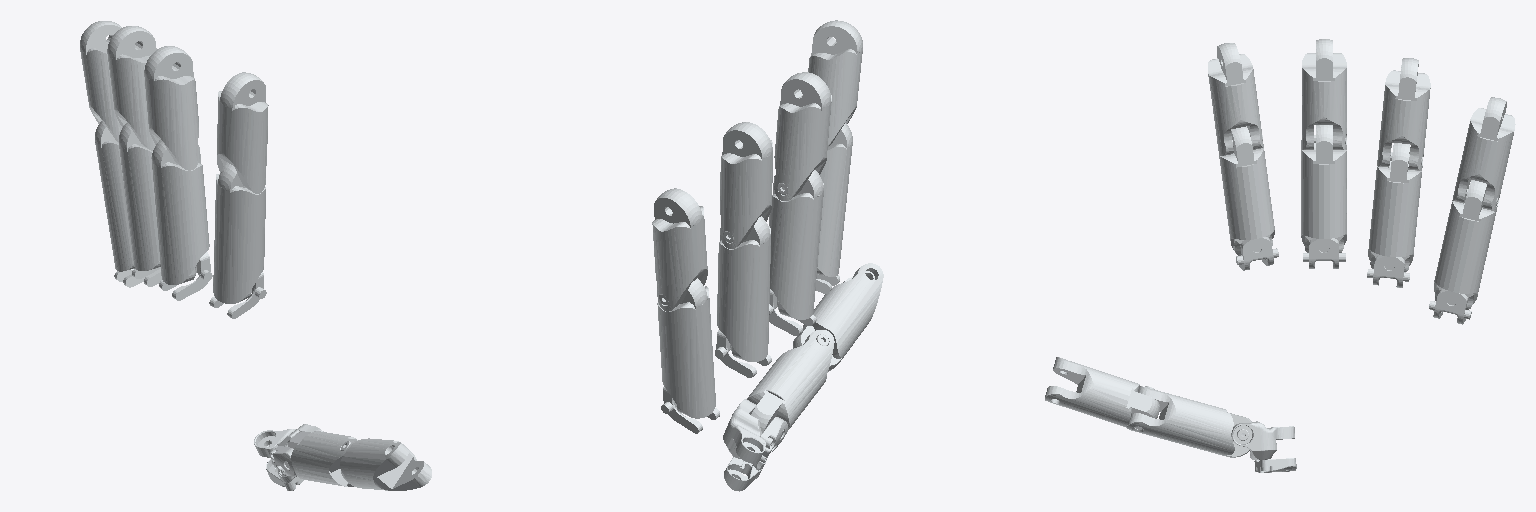
--- Render facts (derived) ---
The picture shows the robot from 3 angles, left to right: view 1: azimuth 30°, elevation 25°; view 2: azimuth 150°, elevation 25°; view 3: azimuth 270°, elevation 25°; orthographic projection.
Robot: wujihand-left-v1.0.0 — 26 links, 25 joints (20 revolute, 5 fixed); root link palm_link; default pose: all joints at 0.
Links seen in each view (by area): view 1: finger3_link2, finger2_link2, finger3_link3, finger2_link3, finger4_link3, finger4_link2, finger1_link3, finger5_link2, finger5_link3, finger1_link2, finger1_link1, finger3_link1 (+1 smaller); view 2: finger4_link2, finger3_link2, finger5_link2, finger3_link3, finger4_link3, finger5_link3, finger1_link2, finger1_link3, finger2_link3, finger2_link2, finger1_link1, finger4_link1 (+2 smaller); view 3: finger3_link2, finger4_link2, finger5_link2, finger2_link2, finger1_link2, finger1_link3, finger5_link3, finger2_link3, finger4_link3, finger3_link3, finger1_link1, finger2_link1 (+3 smaller).
Link boxes in pixels (x1=…): finger3_link2: x1=151, y1=140, x2=209, y2=284; finger2_link2: x1=213, y1=162, x2=265, y2=303; finger3_link3: x1=144, y1=46, x2=199, y2=170; finger2_link3: x1=217, y1=72, x2=268, y2=193; finger4_link3: x1=107, y1=26, x2=156, y2=150; finger4_link2: x1=119, y1=123, x2=160, y2=270; finger1_link3: x1=340, y1=438, x2=431, y2=490; finger5_link2: x1=95, y1=121, x2=134, y2=271; finger5_link3: x1=80, y1=21, x2=121, y2=142; finger1_link2: x1=285, y1=431, x2=357, y2=486; finger1_link1: x1=254, y1=424, x2=323, y2=490; finger3_link1: x1=159, y1=252, x2=212, y2=300; finger4_link2: x1=717, y1=216, x2=770, y2=361; finger3_link2: x1=769, y1=170, x2=823, y2=319; finger5_link2: x1=657, y1=278, x2=715, y2=418; finger3_link3: x1=774, y1=72, x2=831, y2=200; finger4_link3: x1=720, y1=122, x2=772, y2=248; finger5_link3: x1=652, y1=188, x2=707, y2=311; finger1_link2: x1=747, y1=330, x2=834, y2=436; finger1_link3: x1=793, y1=263, x2=883, y2=371; finger2_link3: x1=808, y1=20, x2=862, y2=146; finger2_link2: x1=817, y1=123, x2=852, y2=276; finger1_link1: x1=723, y1=399, x2=787, y2=491; finger4_link1: x1=715, y1=330, x2=771, y2=377; finger3_link2: x1=1301, y1=125, x2=1346, y2=252; finger4_link2: x1=1368, y1=143, x2=1421, y2=271; finger5_link2: x1=1434, y1=180, x2=1496, y2=309; finger2_link2: x1=1219, y1=126, x2=1274, y2=255; finger1_link2: x1=1127, y1=386, x2=1251, y2=457; finger1_link3: x1=1045, y1=357, x2=1159, y2=429; finger5_link3: x1=1452, y1=97, x2=1515, y2=211; finger2_link3: x1=1208, y1=43, x2=1263, y2=155; finger4_link3: x1=1377, y1=58, x2=1430, y2=170; finger3_link3: x1=1301, y1=39, x2=1346, y2=149; finger1_link1: x1=1231, y1=421, x2=1296, y2=472; finger2_link1: x1=1236, y1=237, x2=1278, y2=270.
Size in the robot's own frame: 0.0465 by 0.1549 by 0.1454 metres.
15 mesh visuals loaded from 26 distinct referenced files (15 binary STL); not drawn: 11 (reference not matched to a file when rendering).

URDF robot description (wujihand-left-v1.0.0):
<?xml version="1.0" encoding="utf-8"?>
<robot name="wujihand-left-v1.0.0">
  <!-- Minimal MuJoCo settings - detailed configuration will be in exported XML -->
  <mujoco>
    <compiler meshdir="../meshes/left/" balanceinertia="true"/>
  </mujoco>
  <link
    name="palm_link">
    <inertial>
      <origin
        xyz="-0.00292929095429706 -0.000424723926533241 0.0364904602759093"
        rpy="0 0 0" />
      <mass
        value="0.2179" />
      <inertia
        ixx="0.000185138805675"
        ixy="-6.95e-04"
        ixz="6.81e-03"
        iyy="0.000122854497279"
        iyz="1.27e-02"
        izz="8.31e-02" />
    </inertial>
    <visual>
      <origin
        xyz="0 0 0"
        rpy="0 0 0" />
      <geometry>
        <mesh
          filename="palm_mask.STL" />
      </geometry>
      <material
        name="">
        <color
          rgba="0.898039215686275 0.917647058823529 0.929411764705882 1" />
      </material>
      <!-- MuJoCo visual设置 - 使用组1（可见） -->
      <class>visual</class>
    </visual>
    <collision>
      <origin
        xyz="0 0 0"
        rpy="1.5708 0 0" />
      <geometry>
        <mesh
          filename="palm_link.STL" />
      </geometry>
      <!-- MuJoCo collision parameters - 增大palm的margin和gap -->
      <mu1 value="0.8"/>
      <mu2 value="0.8"/>
      <margin value="0.015"/>
      <gap value="0.012"/>
      <!-- MuJoCo碰撞设置 - 使用组3（不可见） -->
      <class>collision</class>
    </collision>
  </link>
  <link
    name="finger1_link1">
    <inertial>
      <origin
        xyz="-0.00158326296943185 0.00213593307440989 0.00777132593574714"
        rpy="0 0 0" />
      <mass
        value="0.0075" />
      <inertia
        ixx="3.31e-04"
        ixy="-4.13e-06"
        ixz="-8.89e-06"
        iyy="3.17e-04"
        iyz="-5.68e-05"
        izz="2.14e-04" />
    </inertial>
    <visual>
      <origin
        xyz="0 0 0"
        rpy="0 0 0" />
      <geometry>
        <mesh
          filename="finger1_link1.STL" />
      </geometry>
      <material
        name="">
        <color
          rgba="0.898039215686275 0.917647058823529 0.929411764705882 1" />
      </material>
    </visual>
    <collision>
      <origin
        xyz="0 0 0"
        rpy="0 0 0" />
      <geometry>
        <mesh
          filename="finger1_link1.STL" />
      </geometry>
      <!-- MuJoCo collision parameters - 第一指节增加margin和gap -->
      <margin value="0.006"/>
      <gap value="0.004"/>
      <class>collision</class>
    </collision>
  </link>
  <joint
    name="finger1_joint1"
    type="revolute">
    <origin
      xyz="0.0085244 -0.020575 0.028712"
      rpy="1.328 -0.37161 0.7307" />
    <parent
      link="palm_link" />
    <child
      link="finger1_link1" />
    <axis
      xyz="-0 1 -0" />
    <limit
      lower="-0.0448"
      upper="1.6508"
      effort="0.6"
      velocity="8.58701992" />
  </joint>
  <link
    name="finger1_link2">
    <inertial>
      <origin
        xyz="2.99522995513279E-05 -0.00116812486179632 0.0149182232520299"
        rpy="0 0 0" />
      <mass
        value="0.0248" />
      <inertia
        ixx="2.63e-04"
        ixy="1.82e-03"
        ixz="-1.15e-03"
        iyy="2.56e-04"
        iyz="-8.82e-04"
        izz="6.80e-02" />
    </inertial>
    <visual>
      <origin
        xyz="0 0 0"
        rpy="0 0 0" />
      <geometry>
        <mesh
          filename="finger1_link2.STL" />
      </geometry>
      <material
        name="">
        <color
          rgba="0.898039215686275 0.917647058823529 0.929411764705882 1" />
      </material>
    </visual>
    <collision>
      <origin
        xyz="0 0 0"
        rpy="0 0 0" />
      <geometry>
        <mesh
          filename="finger1_link2.STL" />
      </geometry>
      <class>collision</class>
    </collision>
  </link>
  <joint
    name="finger1_joint2"
    type="revolute">
    <origin
      xyz="-0.0047549 0.0060191 0.014132"
      rpy="-0.27968 -0.55633 -0.081982" />
    <parent
      link="finger1_link1" />
    <child
      link="finger1_link2" />
    <axis
      xyz="-1 0 0" />
    <limit
      lower="-0.1659"
      upper="0.9339"
      effort="0.6"
      velocity="11.10029404" />
  </joint>
  <link
    name="finger1_link3">
    <inertial>
      <origin
        xyz="-0.0011164528117824 -0.000193536601537519 0.0127950742476409"
        rpy="0 0 0" />
      <mass
        value="0.0165" />
      <inertia
        ixx="1.42e-03"
        ixy="-1.20e-08"
        ixz="-2.21e-05"
        iyy="1.39e-03"
        iyz="1.29e-06"
        izz="4.50e-04" />
    </inertial>
    <visual>
      <origin
        xyz="0 0 0"
        rpy="0 0 0" />
      <geometry>
        <mesh
          filename="finger1_link3.STL" />
      </geometry>
      <material
        name="">
        <color
          rgba="0.898039215686275 0.917647058823529 0.929411764705882 1" />
      </material>
    </visual>
    <collision>
      <origin
        xyz="0 0 0"
        rpy="0 0 0" />
      <geometry>
        <mesh
          filename="finger1_link3.STL" />
      </geometry>
      <class>collision</class>
    </collision>
  </link>
  <joint
    name="finger1_joint3"
    type="revolute">
    <origin
      xyz="0.0009915 -0.00026671 0.033166"
      rpy="-0.049049 0.017311 0.33774" />
    <parent
      link="finger1_link2" />
    <child
      link="finger1_link3" />
    <axis
      xyz="0 1 0" />
    <limit
      lower="-0.4932"
      upper="1.6272"
      effort="0.3"
      velocity="12.86307659" />
  </joint>
  <link
    name="finger1_link4">
    <inertial>
      <origin
        xyz="-0.0011924347648161 -0.000426848762611627 0.00874664264011477"
        rpy="0 0 0" />
      <mass
        value="0.0165" />
      <inertia
        ixx="7.83e-04"
        ixy="-2.54e-07"
        ixz="-1.13e-05"
        iyy="8.01e-04"
        iyz="1.92e-06"
        izz="4.30e-04" />
    </inertial>
    <visual>
      <origin
        xyz="0 0 0"
        rpy="0 0 0" />
      <geometry>
        <mesh
          filename="finger1_link4.STL" />
      </geometry>
      <material
        name="">
        <color
          rgba="0.898039215686275 0.917647058823529 0.929411764705882 1" />
      </material>
    </visual>
    <collision>
      <origin
        xyz="0 0 0"
        rpy="0 0 0" />
      <geometry>
        <mesh
          filename="finger1_link4.STL" />
      </geometry>
      <class>collision</class>
    </collision>
  </link>
  <joint
    name="finger1_joint4"
    type="revolute">
    <origin
      xyz="0 4.0225E-05 0.028987"
      rpy="0 0 0" />
    <parent
      link="finger1_link3" />
    <child
      link="finger1_link4" />
    <axis
      xyz="0 1 0" />
    <limit
      lower="-0.4932"
      upper="1.6272"
      effort="0.3"
      velocity="13.57866158" />
  </joint>
  <link
    name="finger1_tip_link">
    <inertial>
      <origin
        xyz="-0.000181790844011175 -8.01226346783257E-06 -0.00417789759267298"
        rpy="0 0 0" />
      <mass
        value="0.004" />
      <inertia
        ixx="1.18e-04"
        ixy="2.61e-09"
        ixz="4.35e-06"
        iyy="1.18e-04"
        iyz="-9.31e-10"
        izz="1.05e-04" />
    </inertial>
    <visual>
      <origin
        xyz="0 0 0"
        rpy="0 0 0" />
      <geometry>
        <mesh
          filename="finger1_tip_link.STL" />
      </geometry>
      <material
        name="">
        <color
          rgba="0.898039215686275 0.917647058823529 0.929411764705882 1" />
      </material>
    </visual>
    <collision>
      <origin
        xyz="0 0 0"
        rpy="0 0 0" />
      <geometry>
        <mesh
          filename="finger1_tip_link.STL" />
      </geometry>
      <class>collision</class>
    </collision>
  </link>
  <joint
    name="finger1_tip_fixed"
    type="fixed">
    <origin
      xyz="-0.001058 -0.00044022 0.029313"
      rpy="0 0 0" />
    <parent
      link="finger1_link4" />
    <child
      link="finger1_tip_link" />
    <axis
      xyz="0 0 0" />
    <limit
      lower="-0.5236"
      upper="0.5236"
      effort="100"
      velocity="10" />
  </joint>
  <link
    name="finger2_link1">
    <inertial>
      <origin
        xyz="-0.00132913876729344 1.07998111356644E-08 0.000319987804784969"
        rpy="0 0 0" />
      <mass
        value="0.0032" />
      <inertia
        ixx="8.25e-05"
        ixy="-3.72e-10"
        ixz="-2.51e-05"
        iyy="7.18e-05"
        iyz="-7.79e-10"
        izz="7.66e-05" />
    </inertial>
    <visual>
      <origin
        xyz="0 0 0"
        rpy="0 0 0" />
      <geometry>
        <mesh
          filename="finger2_link1.STL" />
      </geometry>
      <material
        name="">
        <color
          rgba="0.898039215686275 0.917647058823529 0.929411764705882 1" />
      </material>
    </visual>
    <collision>
      <origin
        xyz="0 0 0"
        rpy="0 0 0" />
      <geometry>
        <mesh
          filename="finger2_link1.STL" />
      </geometry>
      <!-- MuJoCo collision parameters - 第一指节增加margin和gap -->
      <margin value="0.006"/>
      <gap value="0.004"/>
      <class>collision</class>
    </collision>
  </link>
  <joint
    name="finger2_joint1"
    type="revolute">
    <origin
      xyz="-0.0058701 -0.029434 0.091917"
      rpy="0.11071 -0.071133 0.21823" />
    <parent
      link="palm_link" />
    <child
      link="finger2_link1" />
    <axis
      xyz="0 1 0" />
    <limit
      lower="-0.32695"
      upper="1.63595"
      effort="1"
      velocity="8.203047484" />
  </joint>
  <link
    name="finger2_link2">
    <inertial>
      <origin
        xyz="-0.00607478065701528 -4.93319372601997E-07 0.0174058499433649"
        rpy="0 0 0" />
      <mass
        value="0.033" />
      <inertia
        ixx="4.74e-03"
        ixy="-3.12e-08"
        ixz="-1.58e-04"
        iyy="4.77e-03"
        iyz="2.25e-07"
        izz="8.76e-04" />
    </inertial>
    <visual>
      <origin
        xyz="0 0 0"
        rpy="0 0 0" />
      <geometry>
        <mesh
          filename="finger2_link2.STL" />
      </geometry>
      <material
        name="">
        <color
          rgba="0.898039215686275 0.917647058823529 0.929411764705882 1" />
      </material>
    </visual>
    <collision>
      <origin
        xyz="0 0 0"
        rpy="0 0 0" />
      <geometry>
        <mesh
          filename="finger2_link2.STL" />
      </geometry>
      <class>collision</class>
    </collision>
  </link>
  <joint
    name="finger2_joint2"
    type="revolute">
    <origin
      xyz="0.0022 0 0.004"
      rpy="-0.00043322 1.0969E-05 0" />
    <parent
      link="finger2_link1" />
    <child
      link="finger2_link2" />
    <axis
      xyz="-1 -0 -0" />
    <limit
      lower="-0.495"
      upper="0.495"
      effort="0.2"
      velocity="8.115781022" />
  </joint>
  <link
    name="finger2_link3">
    <inertial>
      <origin
        xyz="-0.00112281429455101 4.42885564347698E-06 0.0155095500899497"
        rpy="0 0 0" />
      <mass
        value="0.0165" />
      <inertia
        ixx="1.45e-03"
        ixy="-1.73e-08"
        ixz="3.48e-05"
        iyy="1.42e-03"
        iyz="1.26e-06"
        izz="4.50e-04" />
    </inertial>
    <visual>
      <origin
        xyz="0 0 0"
        rpy="0 0 0" />
      <geometry>
        <mesh
          filename="finger2_link3.STL" />
      </geometry>
      <material
        name="">
        <color
          rgba="0.898039215686275 0.917647058823529 0.929411764705882 1" />
      </material>
    </visual>
    <collision>
      <origin
        xyz="0 0 0"
        rpy="0 0 0" />
      <geometry>
        <mesh
          filename="finger2_link3.STL" />
      </geometry>
      <class>collision</class>
    </collision>
  </link>
  <joint
    name="finger2_joint3"
    type="revolute">
    <origin
      xyz="-0.0046 0 0.036618"
      rpy="0 0 -0.00026861" />
    <parent
      link="finger2_link2" />
    <child
      link="finger2_link3" />
    <axis
      xyz="-0 1 -0" />
    <limit
      lower="-0.4932"
      upper="1.6272"
      effort="0.3"
      velocity="12.86307659" />
  </joint>
  <link
    name="finger2_link4">
    <inertial>
      <origin
        xyz="-0.000894373440667368 1.7064179684341E-05 0.0053517596526321"
        rpy="0 0 0" />
      <mass
        value="0.014" />
      <inertia
        ixx="5.07e-04"
        ixy="8.93e-08"
        ixz="1.62e-05"
        iyy="3.58e-04"
        iyz="8.67e-07"
        izz="4.13e-04" />
    </inertial>
    <visual>
      <origin
        xyz="0 0 0"
        rpy="0 0 0" />
      <geometry>
        <mesh
          filename="finger2_link4.STL" />
      </geometry>
      <material
        name="">
        <color
          rgba="0.898039215686275 0.917647058823529 0.929411764705882 1" />
      </material>
    </visual>
    <collision>
      <origin
        xyz="0 0 0"
        rpy="0 0 0" />
      <geometry>
        <mesh
          filename="finger2_link4.STL" />
      </geometry>
      <class>collision</class>
    </collision>
  </link>
  <joint
    name="finger2_joint4"
    type="revolute">
    <origin
      xyz="0 0 0.029"
      rpy="0 0 0" />
    <parent
      link="finger2_link3" />
    <child
      link="finger2_link4" />
    <axis
      xyz="-0 1 -0" />
    <limit
      lower="-0.4932"
      upper="1.6272"
      effort="0.3"
      velocity="13.57866158" />
  </joint>
  <link
    name="finger2_tip_link">
    <inertial>
      <origin
        xyz="-0.000203319997422801 1.48461818001711E-06 -0.00861106767971259"
        rpy="0 0 0" />
      <mass
        value="0.004" />
      <inertia
        ixx="1.33e-04"
        ixy="7.44e-09"
        ixz="5.05e-06"
        iyy="1.32e-04"
        iyz="-3.32e-08"
        izz="9.82e-05" />
    </inertial>
    <visual>
      <origin
        xyz="0 0 0"
        rpy="0 0 0" />
      <geometry>
        <mesh
          filename="finger2_tip_link.STL" />
      </geometry>
      <material
        name="">
        <color
          rgba="0.898039215686275 0.917647058823529 0.929411764705882 1" />
      </material>
    </visual>
    <collision>
      <origin
        xyz="0 0 0"
        rpy="0 0 0" />
      <geometry>
        <mesh
          filename="finger2_tip_link.STL" />
      </geometry>
      <class>collision</class>
    </collision>
  </link>
  <joint
    name="finger2_tip_fixed"
    type="fixed">
    <origin
      xyz="-0.0010404 0 0.0267"
      rpy="0 0 0" />
    <parent
      link="finger2_link4" />
    <child
      link="finger2_tip_link" />
    <axis
      xyz="0 0 0" />
  </joint>
  <link
    name="finger3_link1">
    <inertial>
      <origin
        xyz="-0.00132913696813167 1.11602473183009E-09 0.000319936646371297"
        rpy="0 0 0" />
      <mass
        value="0.0032" />
      <inertia
        ixx="8.25e-05"
        ixy="-3.69e-10"
        ixz="-2.51e-05"
        iyy="7.18e-05"
        iyz="-9.85e-10"
        izz="7.66e-05" />
    </inertial>
    <visual>
      <origin
        xyz="0 0 0"
        rpy="0 0 0" />
      <geometry>
        <mesh
          filename="finger3_link1.STL" />
      </geometry>
      <material
        name="">
        <color
          rgba="0.898039215686275 0.917647058823529 0.929411764705882 1" />
      </material>
    </visual>
    <collision>
      <origin
        xyz="0 0 0"
        rpy="0 0 0" />
      <geometry>
        <mesh
          filename="finger3_link1.STL" />
      </geometry>
      <!-- MuJoCo collision parameters - 第一指节增加margin和gap -->
      <margin value="0.006"/>
      <gap value="0.004"/>
      <class>collision</class>
    </collision>
  </link>
  <joint
    name="finger3_joint1"
    type="revolute">
    <origin
      xyz="-0.01046 -0.0074615 0.089544"
      rpy="5.0886E-05 -0.087266 -0.00058387" />
    <parent
      link="palm_link" />
    <child
      link="finger3_link1" />
    <axis
      xyz="-0 1 -0" />
    <limit
      lower="-0.32695"
      upper="1.63595"
      effort="1"
      velocity="8.203047484" />
  </joint>
  <link
    name="finger3_link2">
    <inertial>
      <origin
        xyz="-0.00607477235967843 -4.92548204314783E-07 0.0174058563898581"
        rpy="0 0 0" />
      <mass
        value="0.033" />
      <inertia
        ixx="4.74e-03"
        ixy="-3.07e-08"
        ixz="-1.58e-04"
        iyy="4.77e-03"
        iyz="2.26e-07"
        izz="8.76e-04" />
    </inertial>
    <visual>
      <origin
        xyz="0 0 0"
        rpy="0 0 0" />
      <geometry>
        <mesh
          filename="finger3_link2.STL" />
      </geometry>
      <material
        name="">
        <color
          rgba="0.898039215686275 0.917647058823529 0.929411764705882 1" />
      </material>
    </visual>
    <collision>
      <origin
        xyz="0 0 0"
        rpy="0 0 0" />
      <geometry>
        <mesh
          filename="finger3_link2.STL" />
      </geometry>
      <class>collision</class>
    </collision>
  </link>
  <joint
    name="finger3_joint2"
    type="revolute">
    <origin
      xyz="0.0022 0 0.004"
      rpy="-0.00043323 0 0" />
    <parent
      link="finger3_link1" />
    <child
      link="finger3_link2" />
    <axis
      xyz="-1 0 0" />
    <limit
      lower="-0.495"
      upper="0.495"
      effort="0.2"
      velocity="8.115781022" />
  </joint>
  <link
    name="finger3_link3">
    <inertial>
      <origin
        xyz="-0.00112282877409504 4.3967738578175E-06 0.0155095423926734"
        rpy="0 0 0" />
      <mass
        value="0.0165" />
      <inertia
        ixx="1.45e-03"
        ixy="-1.41e-08"
        ixz="3.48e-05"
        iyy="1.42e-03"
        iyz="1.26e-06"
        izz="4.50e-04" />
    </inertial>
    <visual>
      <origin
        xyz="0 0 0"
        rpy="0 0 0" />
      <geometry>
        <mesh
          filename="finger3_link3.STL" />
      </geometry>
      <material
        name="">
        <color
          rgba="0.898039215686275 0.917647058823529 0.929411764705882 1" />
      </material>
    </visual>
    <collision>
      <origin
        xyz="0 0 0"
        rpy="0 0 0" />
      <geometry>
        <mesh
          filename="finger3_link3.STL" />
      </geometry>
      <class>collision</class>
    </collision>
  </link>
  <joint
    name="finger3_joint3"
    type="revolute">
    <origin
      xyz="-0.0046 0 0.036618"
      rpy="0 0 -0.00026862" />
    <parent
      link="finger3_link2" />
    <child
      link="finger3_link3" />
    <axis
      xyz="-0 1 -0" />
    <limit
      lower="-0.4932"
      upper="1.6272"
      effort="0.3"
      velocity="12.86307659" />
  </joint>
  <link
    name="finger3_link4">
    <inertial>
      <origin
        xyz="-0.000894355967897602 1.70486239230308E-05 0.00535176750388458"
        rpy="0 0 0" />
      <mass
        value="0.014" />
      <inertia
        ixx="5.07e-04"
        ixy="8.95e-08"
        ixz="1.62e-05"
        iyy="3.58e-04"
        iyz="8.66e-07"
        izz="4.13e-04" />
    </inertial>
    <visual>
      <origin
        xyz="0 0 0"
        rpy="0 0 0" />
      <geometry>
        <mesh
          filename="finger3_link4.STL" />
      </geometry>
      <material
        name="">
        <color
          rgba="0.898039215686275 0.917647058823529 0.929411764705882 1" />
      </material>
    </visual>
    <collision>
      <origin
        xyz="0 0 0"
        rpy="0 0 0" />
      <geometry>
        <mesh
          filename="finger3_link4.STL" />
      </geometry>
      <class>collision</class>
    </collision>
  </link>
  <joint
    name="finger3_joint4"
    type="revolute">
    <origin
      xyz="0 0 0.029"
      rpy="0 0 0" />
    <parent
      link="finger3_link3" />
    <child
      link="finger3_link4" />
    <axis
      xyz="-0 1 -0" />
    <limit
      lower="-0.4932"
      upper="1.6272"
      effort="0.3"
      velocity="13.57866158" />
  </joint>
  <link
    name="finger3_tip_link">
    <inertial>
      <origin
        xyz="-0.000203207212768761 1.53102336469726E-06 -0.00861060208734837"
        rpy="0 0 0" />
      <mass
        value="0.004" />
      <inertia
        ixx="1.33e-04"
        ixy="7.05e-09"
        ixz="5.05e-06"
        iyy="1.32e-04"
        iyz="-3.37e-08"
        izz="9.82e-05" />
    </inertial>
    <visual>
      <origin
        xyz="0 0 0"
        rpy="0 0 0" />
      <geometry>
        <mesh
          filename="finger3_tip_link.STL" />
      </geometry>
      <material
        name="">
        <color
          rgba="0.898039215686275 0.917647058823529 0.929411764705882 1" />
      </material>
    </visual>
    <collision>
      <origin
        xyz="0 0 0"
        rpy="0 0 0" />
      <geometry>
        <mesh
          filename="finger3_tip_link.STL" />
      </geometry>
      <class>collision</class>
    </collision>
  </link>
  <joint
    name="finger3_tip_fixed"
    type="fixed">
    <origin
      xyz="-0.0010404 0 0.0267"
      rpy="0 0 0" />
    <parent
      link="finger3_link4" />
    <child
      link="finger3_tip_link" />
    <axis
      xyz="0 0 0" />
  </joint>
  <link
    name="finger4_link1">
    <inertial>
      <origin
        xyz="-0.00132895375767908 1.51762913867814E-09 0.000320713696782327"
        rpy="0 0 0" />
      <mass
        value="0.0032" />
      <inertia
        ixx="8.24e-05"
        ixy="-3.49e-10"
        ixz="-2.51e-05"
        iyy="7.18e-05"
        iyz="-7.21e-10"
        izz="7.66e-05" />
    </inertial>
    <visual>
      <origin
        xyz="0 0 0"
        rpy="0 0 0" />
      <geometry>
        <mesh
          filename="finger4_link1.STL" />
      </geometry>
      <material
        name="">
        <color
          rgba="0.898039215686275 0.917647058823529 0.929411764705882 1" />
      </material>
    </visual>
    <collision>
      <origin
        xyz="0 0 0"
        rpy="0 0 0" />
      <geometry>
        <mesh
          filename="finger4_link1.STL" />
      </geometry>
      <!-- MuJoCo collision parameters - 第一指节增加margin和gap -->
      <margin value="0.006"/>
      <gap value="0.004"/>
      <class>collision</class>
    </collision>
  </link>
  <joint
    name="finger4_joint1"
    type="revolute">
    <origin
      xyz="-0.0076649 0.013712 0.084429"
      rpy="-0.090379 -0.084038 -0.047072" />
    <parent
      link="palm_link" />
    <child
      link="finger4_link1" />
    <axis
      xyz="-0 1 -0" />
    <limit
      lower="-0.32695"
      upper="1.63595"
      effort="1"
      velocity="8.203047484" />
  </joint>
  <link
    name="finger4_link2">
    <inertial>
      <origin
        xyz="-0.00607477274280132 -4.94696776296571E-07 0.0174058568340444"
        rpy="0 0 0" />
      <mass
        value="0.033" />
      <inertia
        ixx="4.74e-03"
        ixy="-3.19e-08"
        ixz="-1.58e-04"
        iyy="4.77e-03"
        iyz="2.25e-07"
        izz="8.76e-04" />
    </inertial>
    <visual>
      <origin
        xyz="0 0 0"
        rpy="0 0 0" />
      <geometry>
        <mesh
          filename="finger4_link2.STL" />
      </geometry>
      <material
        name="">
        <color
          rgba="0.898039215686275 0.917647058823529 0.929411764705882 1" />
      </material>
    </visual>
    <collision>
      <origin
        xyz="0 0 0"
        rpy="0 0 0" />
      <geometry>
        <mesh
          filename="finger4_link2.STL" />
      </geometry>
      <class>collision</class>
    </collision>
  </link>
  <joint
    name="finger4_joint2"
    type="revolute">
    <origin
      xyz="0.0022024 0 0.0039987"
      rpy="-0.00043323 0.00060486 0" />
    <parent
      link="finger4_link1" />
    <child
      link="finger4_link2" />
    <axis
      xyz="-1 0 0" />
    <limit
      lower="-0.495"
      upper="0.495"
      effort="0.2"
      velocity="8.115781022" />
  </joint>
  <link
    name="finger4_link3">
    <inertial>
      <origin
        xyz="-0.0011228321819906 4.39700635864425E-06 0.0155095452031211"
        rpy="0 0 0" />
      <mass
        value="0.0165" />
      <inertia
        ixx="1.45e-03"
        ixy="-1.39e-08"
        ixz="3.48e-05"
        iyy="1.42e-03"
        iyz="1.26e-06"
        izz="4.50e-04" />
    </inertial>
    <visual>
      <origin
        xyz="0 0 0"
        rpy="0 0 0" />
      <geometry>
        <mesh
          filename="finger4_link3.STL" />
      </geometry>
      <material
        name="">
        <color
          rgba="0.898039215686275 0.917647058823529 0.929411764705882 1" />
      </material>
    </visual>
    <collision>
      <origin
        xyz="0 0 0"
        rpy="0 0 0" />
      <geometry>
        <mesh
          filename="finger4_link3.STL" />
      </geometry>
      <class>collision</class>
    </collision>
  </link>
  <joint
    name="finger4_joint3"
    type="revolute">
    <origin
      xyz="-0.0046 0 0.036618"
      rpy="0 0 -0.00026862" />
    <parent
      link="finger4_link2" />
    <child
      link="finger4_link3" />
    <axis
      xyz="-0 1 -0" />
    <limit
      lower="-0.4932"
      upper="1.6272"
      effort="0.3"
      velocity="12.86307659" />
  </joint>
  <link
    name="finger4_link4">
    <inertial>
      <origin
        xyz="-0.000894359410124938 1.70403161934805E-05 0.00535177062111186"
        rpy="0 0 0" />
      <mass
        value="0.014" />
      <inertia
        ixx="5.07e-04"
        ixy="9.04e-08"
        ixz="1.62e-05"
        iyy="3.58e-04"
        iyz="8.66e-07"
        izz="4.13e-04" />
    </inertial>
    <visual>
      <origin
        xyz="0 0 0"
        rpy="0 0 0" />
      <geometry>
        <mesh
          filename="finger4_link4.STL" />
      </geometry>
      <material
        name="">
        <color
          rgba="0.898039215686275 0.917647058823529 0.929411764705882 1" />
      </material>
    </visual>
    <collision>
      <origin
        xyz="0 0 0"
        rpy="0 0 0" />
      <geometry>
        <mesh
          filename="finger4_link4.STL" />
      </geometry>
      <class>collision</class>
    </collision>
  </link>
  <joint
    name="finger4_joint4"
    type="revolute">
    <origin
      xyz="0 0 0.029"
      rpy="0 0 0" />
    <parent
      link="finger4_link3" />
    <child
      link="finger4_link4" />
    <axis
      xyz="-0 1 -0" />
    <limit
      lower="-0.4932"
      upper="1.6272"
      effort="0.3"
      velocity="13.57866158" />
  </joint>
  <link
    name="finger4_tip_link">
    <inertial>
      <origin
        xyz="-0.000197997018420683 1.49757476195292E-06 -0.00861110586236161"
        rpy="0 0 0" />
      <mass
        value="0.004" />
      <inertia
        ixx="1.33e-04"
        ixy="7.77e-09"
        ixz="5.07e-06"
        iyy="1.32e-04"
        iyz="-3.34e-08"
        izz="9.82e-05" />
    </inertial>
    <visual>
      <origin
        xyz="0 0 0"
        rpy="0 0 0" />
      <geometry>
        <mesh
          filename="finger4_tip_link.STL" />
      </geometry>
      <material
        name="">
        <color
          rgba="0.898039215686275 0.917647058823529 0.929411764705882 1" />
      </material>
    </visual>
    <collision>
      <origin
        xyz="0 0 0"
        rpy="0 0 0" />
      <geometry>
        <mesh
          filename="finger4_tip_link.STL" />
      </geometry>
      <class>collision</class>
    </collision>
  </link>
  <joint
    name="finger4_tip_fixed"
    type="fixed">
    <origin
      xyz="-0.0010993 0 0.026698"
      rpy="0 0 0" />
    <parent
      link="finger4_link4" />
    <child
      link="finger4_tip_link" />
    <axis
      xyz="0 0 0" />
  </joint>
  <link
    name="finger5_link1">
    <inertial>
      <origin
        xyz="-0.0013289059094453 -3.48186606907719E-08 0.000320876706930359"
        rpy="0 0 0" />
      <mass
        value="0.0032" />
      <inertia
        ixx="8.24e-05"
        ixy="-1.45e-10"
        ixz="-2.52e-05"
        iyy="7.18e-05"
        iyz="-7.54e-10"
        izz="7.66e-05" />
    </inertial>
    <visual>
      <origin
        xyz="0 0 0"
        rpy="0 0 0" />
      <geometry>
        <mesh
          filename="finger5_link1.STL" />
      </geometry>
      <material
        name="">
        <color
          rgba="0.898039215686275 0.917647058823529 0.929411764705882 1" />
      </material>
    </visual>
    <collision>
      <origin
        xyz="0 0 0"
        rpy="0 0 0" />
      <geometry>
        <mesh
          filename="finger5_link1.STL" />
      </geometry>
      <!-- MuJoCo collision parameters - 第一指节增加margin和gap -->
      <margin value="0.006"/>
      <gap value="0.004"/>
      <class>collision</class>
    </collision>
  </link>
  <joint
    name="finger5_joint1"
    type="revolute">
    <origin
      xyz="-0.0022687 0.034001 0.074281"
      rpy="-0.1925 -0.09326 -0.15753" />
    <parent
      link="palm_link" />
    <child
      link="finger5_link1" />
    <axis
      xyz="0 1 0" />
    <limit
      lower="-0.32695"
      upper="1.63595"
      effort="1"
      velocity="8.203047484" />
  </joint>
  <link
    name="finger5_link2">
    <inertial>
      <origin
        xyz="-0.00607477630781191 -4.98515591005472E-07 0.0174058545892246"
        rpy="0 0 0" />
      <mass
        value="0.033" />
      <inertia
        ixx="4.74e-03"
        ixy="-3.39e-08"
        ixz="-1.58e-04"
        iyy="4.77e-03"
        iyz="2.22e-07"
        izz="8.76e-04" />
    </inertial>
    <visual>
      <origin
        xyz="0 0 0"
        rpy="0 0 0" />
      <geometry>
        <mesh
          filename="finger5_link2.STL" />
      </geometry>
      <material
        name="">
        <color
          rgba="0.898039215686275 0.917647058823529 0.929411764705882 1" />
      </material>
    </visual>
    <collision>
      <origin
        xyz="0 0 0"
        rpy="0 0 0" />
      <geometry>
        <mesh
          filename="finger5_link2.STL" />
      </geometry>
      <class>collision</class>
    </collision>
  </link>
  <joint
    name="finger5_joint2"
    type="revolute">
    <origin
      xyz="0.002203 0 0.0039983"
      rpy="-0.00043323 0.00075655 0" />
    <parent
      link="finger5_link1" />
    <child
      link="finger5_link2" />
    <axis
      xyz="-1 0 0" />
    <limit
      lower="-0.495"
      upper="0.495"
      effort="0.2"
      velocity="8.115781022" />
  </joint>
  <link
    name="finger5_link3">
    <inertial>
      <origin
        xyz="-0.00112283373761552 4.41305177315693E-06 0.015509541308375"
        rpy="0 0 0" />
      <mass
        value="0.0165" />
      <inertia
        ixx="1.45e-03"
        ixy="-1.52e-08"
        ixz="3.48e-05"
        iyy="1.42e-03"
        iyz="1.26e-06"
        izz="4.50e-04" />
    </inertial>
    <visual>
      <origin
        xyz="0 0 0"
        rpy="0 0 0" />
      <geometry>
        <mesh
          filename="finger5_link3.STL" />
      </geometry>
      <material
        name="">
        <color
          rgba="0.898039215686275 0.917647058823529 0.929411764705882 1" />
      </material>
    </visual>
    <collision>
      <origin
        xyz="0 0 0"
        rpy="0 0 0" />
      <geometry>
        <mesh
          filename="finger5_link3.STL" />
      </geometry>
      <class>collision</class>
    </collision>
  </link>
  <joint
    name="finger5_joint3"
    type="revolute">
    <origin
      xyz="-0.0046 0 0.036618"
      rpy="0 0 -0.00026862" />
    <parent
      link="finger5_link2" />
    <child
      link="finger5_link3" />
    <axis
      xyz="-0 1 -0" />
    <limit
      lower="-0.4932"
      upper="1.6272"
      effort="0.3"
      velocity="12.86307659" />
  </joint>
  <link
    name="finger5_link4">
    <inertial>
      <origin
        xyz="-0.000894371517294152 1.70401337270983E-05 0.00535176657060582"
        rpy="0 0 0" />
      <mass
        value="0.014" />
      <inertia
        ixx="5.07e-04"
        ixy="9.10e-08"
        ixz="1.62e-05"
        iyy="3.58e-04"
        iyz="8.66e-07"
        izz="4.13e-04" />
    </inertial>
    <visual>
      <origin
        xyz="0 0 0"
        rpy="0 0 0" />
      <geometry>
        <mesh
          filename="finger5_link4.STL" />
      </geometry>
      <material
        name="">
        <color
          rgba="0.898039215686275 0.917647058823529 0.929411764705882 1" />
      </material>
    </visual>
    <collision>
      <origin
        xyz="0 0 0"
        rpy="0 0 0" />
      <geometry>
        <mesh
          filename="finger5_link4.STL" />
      </geometry>
      <class>collision</class>
    </collision>
  </link>
  <joint
    name="finger5_joint4"
    type="revolute">
    <origin
      xyz="0 0 0.029"
      rpy="0 0 0" />
    <parent
      link="finger5_link3" />
    <child
      link="finger5_link4" />
    <axis
      xyz="-0 1 -0" />
    <limit
      lower="-0.4932"
      upper="1.6272"
      effort="0.3"
      velocity="13.57866158" />
  </joint>
  <link
    name="finger5_tip_link">
    <inertial>
      <origin
        xyz="-0.000196791258334415 1.49823333060045E-06 -0.00861112752555265"
        rpy="0 0 0" />
      <mass
        value="0.004" />
      <inertia
        ixx="1.33e-04"
        ixy="7.77e-09"
        ixz="5.07e-06"
        iyy="1.32e-04"
        iyz="-3.33e-08"
        izz="9.82e-05" />
    </inertial>
    <visual>
      <origin
        xyz="0 0 0"
        rpy="0 0 0" />
      <geometry>
        <mesh
          filename="finger5_tip_link.STL" />
      </geometry>
      <material
        name="">
        <color
          rgba="0.898039215686275 0.917647058823529 0.929411764705882 1" />
      </material>
    </visual>
    <collision>
      <origin
        xyz="0 0 0"
        rpy="0 0 0" />
      <geometry>
        <mesh
          filename="finger5_tip_link.STL" />
      </geometry>
      <class>collision</class>
    </collision>
  </link>
  <joint
    name="finger5_tip_fixed"
    type="fixed">
    <origin
      xyz="-0.0011127 0 0.026697"
      rpy="0 0 0" />
    <parent
      link="finger5_link4" />
    <child
      link="finger5_tip_link" />
    <axis
      xyz="0 0 0" />
    <limit
      effort="100"
      velocity="10" />
  </joint>
</robot>
